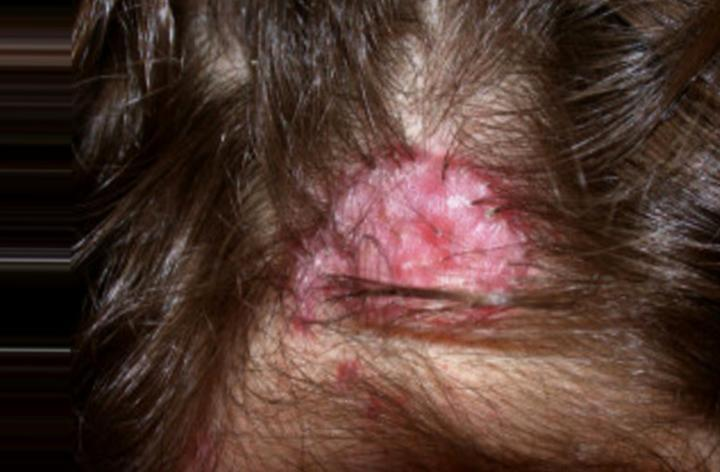Folliculitis: (298, 131, 522, 334)
